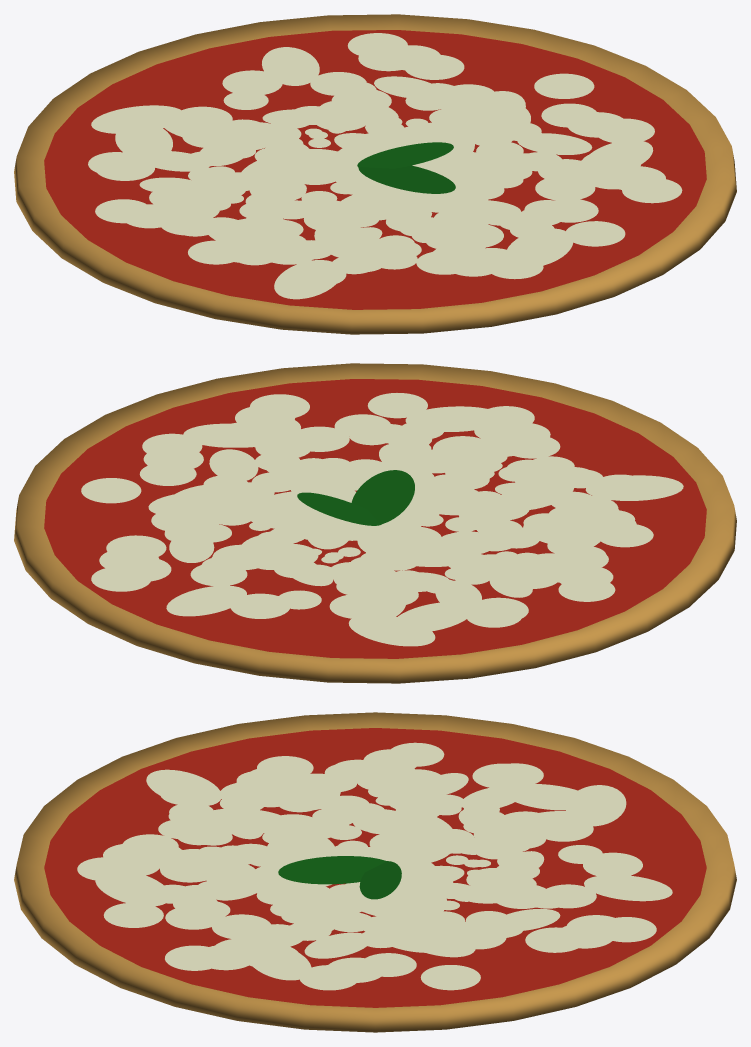
The model's file is pizza.glb.
3 renders of one model, top to bottom at view 1: azimuth 30°, elevation 25°; view 2: azimuth 150°, elevation 25°; view 3: azimuth 270°, elevation 25°, orthographic.
Visible parts, largest first — view 1: mozzarella, tomato, dough, basil; view 2: mozzarella, tomato, dough, basil; view 3: mozzarella, tomato, dough, basil.
Boxes of the visible parts, left/top/right/bottom form: mozzarella: left=88, top=33, right=682, bottom=299; tomato: left=44, top=30, right=706, bottom=309; dough: left=14, top=14, right=736, bottom=334; basil: left=357, top=142, right=455, bottom=193; mozzarella: left=81, top=393, right=683, bottom=646; tomato: left=44, top=379, right=706, bottom=658; dough: left=14, top=363, right=736, bottom=683; basil: left=297, top=470, right=414, bottom=525; mozzarella: left=77, top=742, right=672, bottom=990; tomato: left=44, top=728, right=706, bottom=1007; dough: left=14, top=712, right=736, bottom=1032; basil: left=278, top=856, right=401, bottom=899.
Size of the model in its own units: 24.11 by 0.8718 by 24.11.
